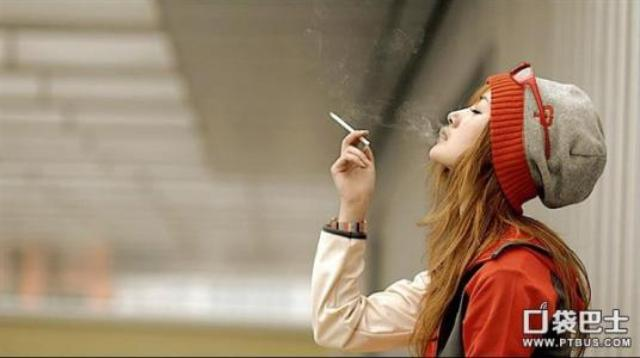Cigarette: (324, 109, 372, 148)
